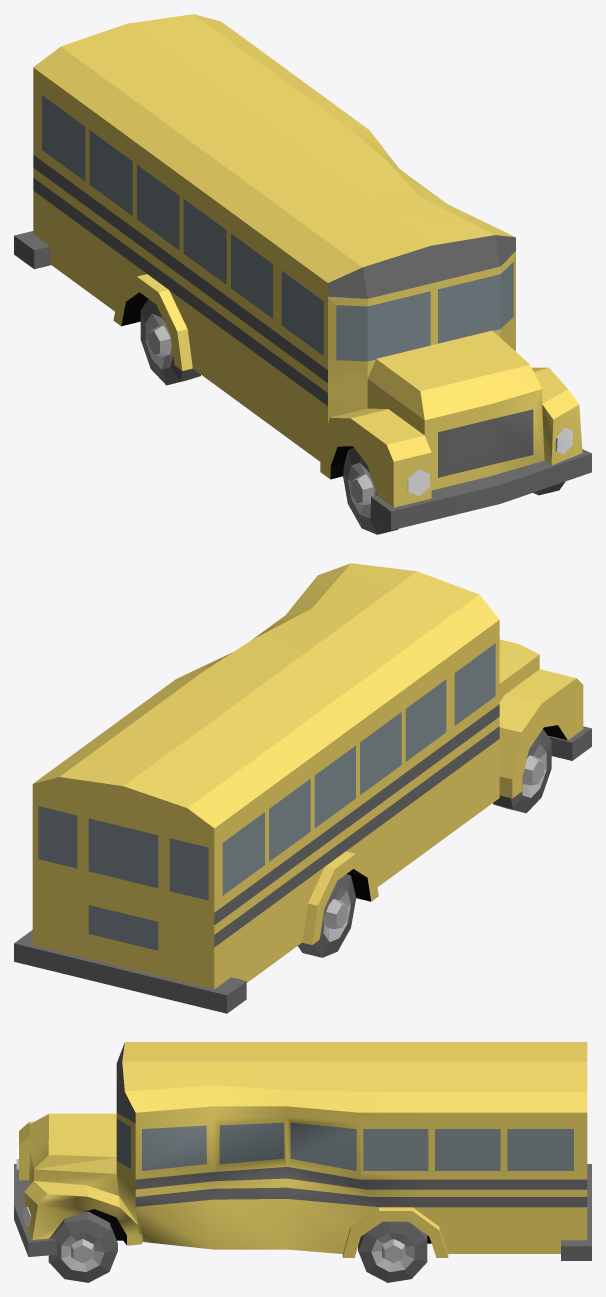
Rendered from bus-school.fbx.
The picture shows the model from 3 angles, top to bottom: view 1: azimuth 30°, elevation 25°; view 2: azimuth 150°, elevation 25°; view 3: azimuth 270°, elevation 25°; orthographic projection. The views are drawn at different scales.
Parts seen in each view (by area): view 1: bus_school_base, bus_school_wheel_BR, bus_school_wheel_FR; view 2: bus_school_base, bus_school_wheel_BR, bus_school_wheel_FR; view 3: bus_school_base, bus_school_wheel_FL, bus_school_wheel_BL.
Boxes of the visible parts, <box> form: bus_school_base: <box>14,14,591,530</box>; bus_school_wheel_BR: <box>140,299,200,385</box>; bus_school_wheel_FR: <box>343,447,397,534</box>; bus_school_base: <box>14,563,591,1013</box>; bus_school_wheel_BR: <box>298,874,356,957</box>; bus_school_wheel_FR: <box>493,729,551,813</box>; bus_school_base: <box>14,1042,591,1260</box>; bus_school_wheel_FL: <box>48,1211,117,1282</box>; bus_school_wheel_BL: <box>358,1221,427,1282</box>.
Bounding box in the file's own units: 298 × 316 × 885.
